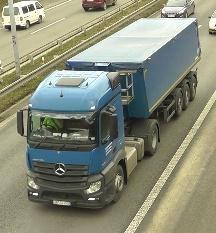car: (162, 0, 198, 18), (81, 0, 115, 12)
truck: (18, 18, 200, 208)
van: (1, 0, 45, 30)
